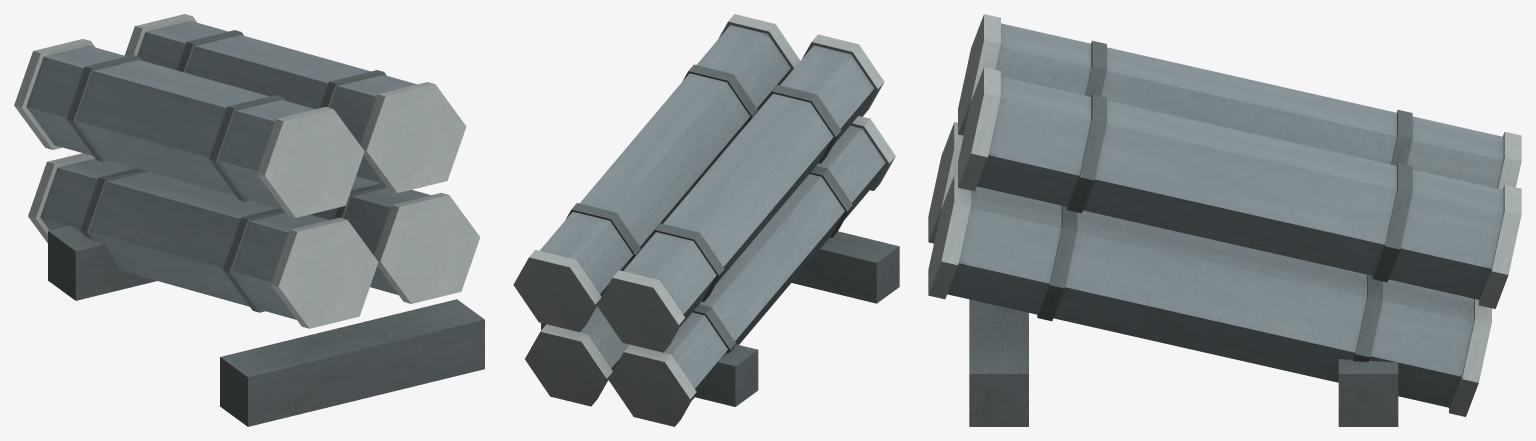
Rendered from mount_spruance_harpoon_metric.glb.
3 views of the same model, side by side, from view 1: azimuth 30°, elevation 25°; view 2: azimuth 150°, elevation 25°; view 3: azimuth 270°, elevation 25° (orthographic). The views are drawn at different scales.
Parts seen in each view (by area): view 1: MESH_SPRUANCE_TEMPLATE_harpoon.007; view 2: MESH_SPRUANCE_TEMPLATE_harpoon.007; view 3: MESH_SPRUANCE_TEMPLATE_harpoon.007.
Boxes of the visible parts, x1=… form: MESH_SPRUANCE_TEMPLATE_harpoon.007: x1=14, y1=14, x2=484, y2=426; MESH_SPRUANCE_TEMPLATE_harpoon.007: x1=513, y1=14, x2=899, y2=426; MESH_SPRUANCE_TEMPLATE_harpoon.007: x1=928, y1=14, x2=1521, y2=426.
Size of the model in its own units: 2.7 by 3.29 by 5.46.
Materials: 1 (1 with a texture image).
